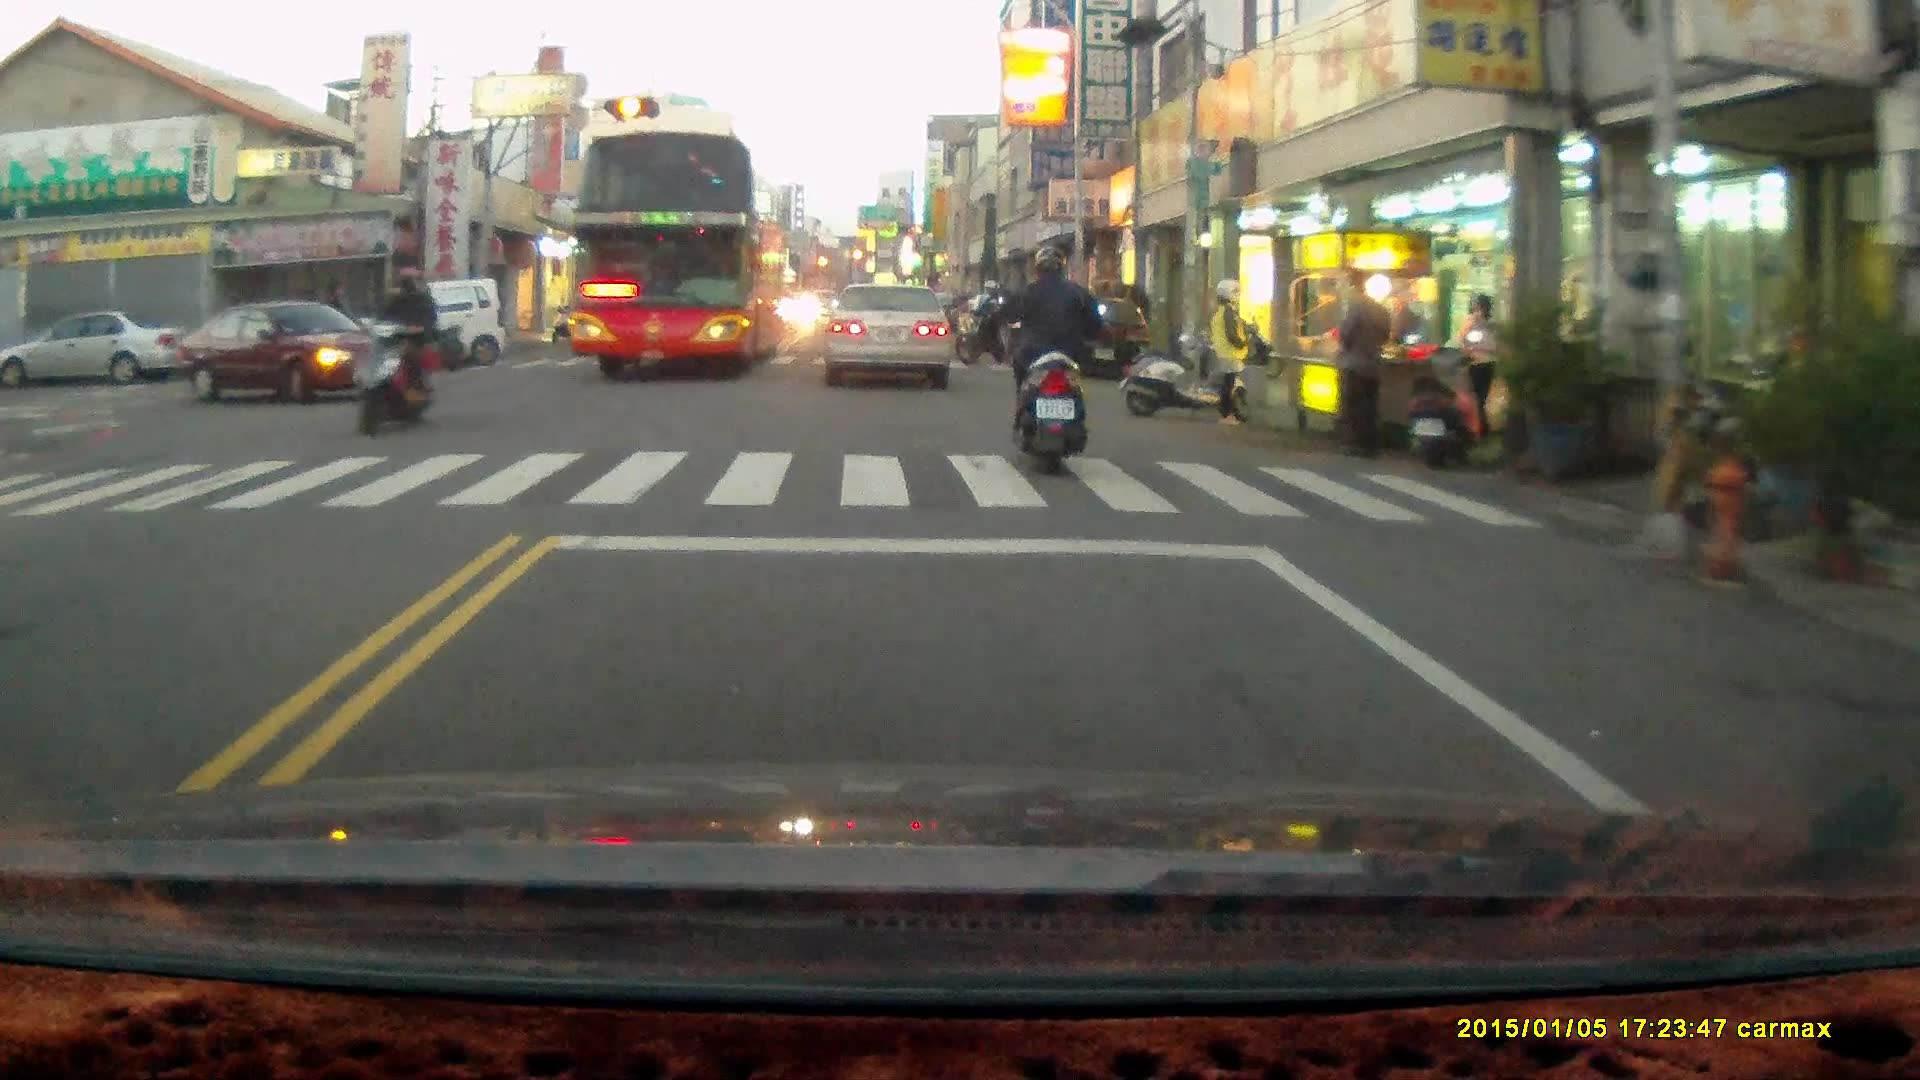pedestrian: (1335, 265, 1392, 457), (1455, 293, 1502, 439), (1208, 281, 1252, 434)
rider: (996, 241, 1108, 477), (344, 263, 434, 435), (394, 281, 463, 374), (952, 279, 1021, 366)
vehicle: (570, 131, 787, 385), (184, 303, 408, 406), (824, 282, 958, 388), (359, 277, 508, 371), (5, 311, 178, 388), (1047, 292, 1156, 380)
